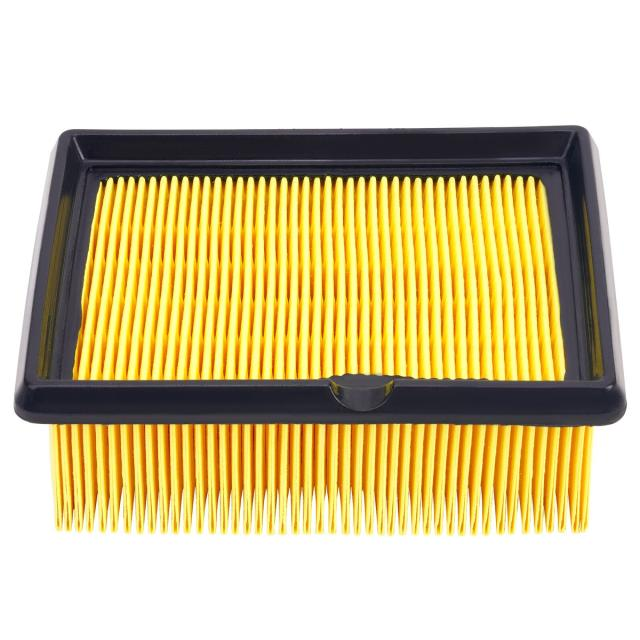air_filter: (17, 110, 635, 548)
